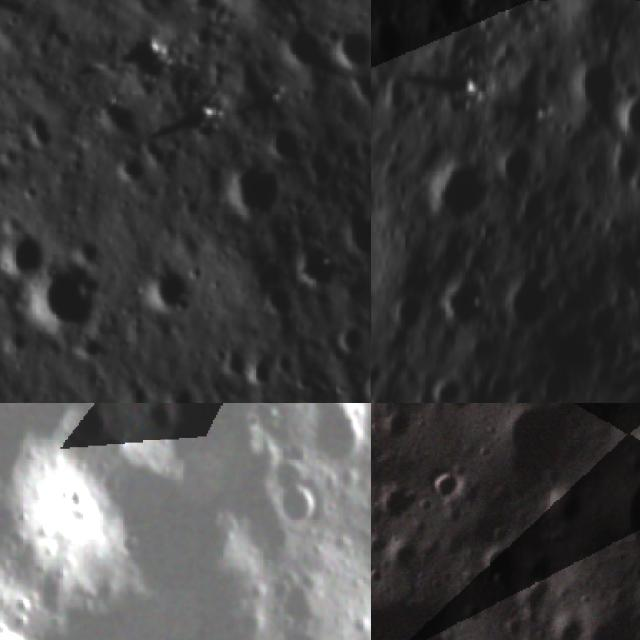crater: (583, 408, 640, 640), (486, 403, 611, 500), (418, 140, 508, 231), (423, 255, 508, 339), (32, 258, 113, 340), (562, 41, 640, 126), (486, 260, 564, 340), (482, 126, 552, 200), (310, 403, 371, 474), (371, 0, 425, 77), (380, 285, 439, 344), (224, 156, 284, 213), (143, 263, 201, 315), (281, 18, 337, 71), (603, 73, 640, 152), (371, 477, 425, 531), (286, 238, 344, 288), (472, 538, 520, 596), (0, 221, 49, 276), (89, 95, 144, 142), (540, 479, 586, 535), (600, 130, 640, 192), (273, 482, 322, 532), (262, 119, 306, 168), (380, 532, 424, 580), (328, 22, 371, 69), (209, 338, 252, 383), (424, 464, 469, 507), (579, 610, 640, 640), (338, 210, 371, 263), (145, 403, 191, 439), (427, 368, 474, 403), (376, 405, 416, 446), (22, 105, 56, 153), (262, 284, 300, 322), (110, 152, 148, 189), (241, 355, 278, 392), (548, 610, 586, 640), (371, 67, 390, 124), (339, 322, 368, 356), (158, 380, 199, 403), (182, 0, 233, 18), (496, 613, 527, 640), (434, 403, 478, 422), (349, 68, 371, 105), (357, 476, 371, 533), (416, 621, 455, 640), (371, 562, 391, 594), (274, 403, 321, 415), (371, 533, 387, 560), (359, 366, 371, 399)
